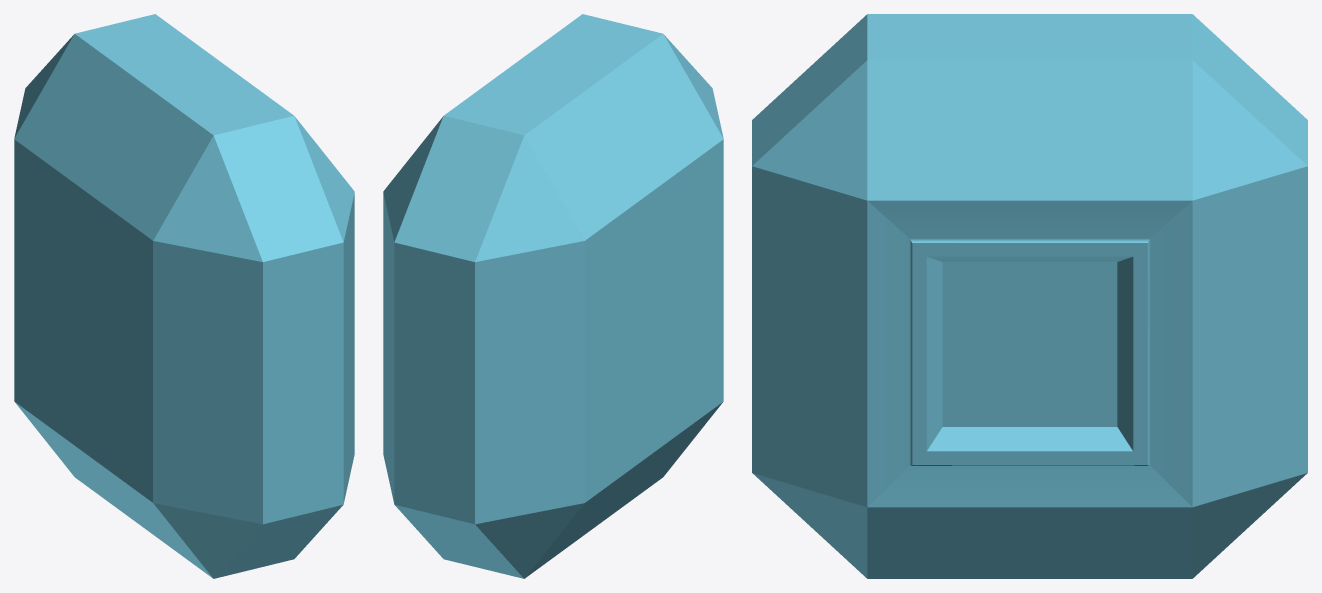
3 renders of one model, left to right at view 1: azimuth 30°, elevation 25°; view 2: azimuth 150°, elevation 25°; view 3: azimuth 270°, elevation 25°, orthographic. The views are drawn at different scales.
Parts seen in each view (by area): view 1: pCube1; view 2: pCube1; view 3: pCube1.
Boxes of the visible parts, x1,y1,x2,y2 form: pCube1: [14, 14, 354, 578]; pCube1: [383, 14, 723, 578]; pCube1: [752, 14, 1307, 578].
Bounding box in the file's own units: 1.7 × 3.57 × 3.46.
